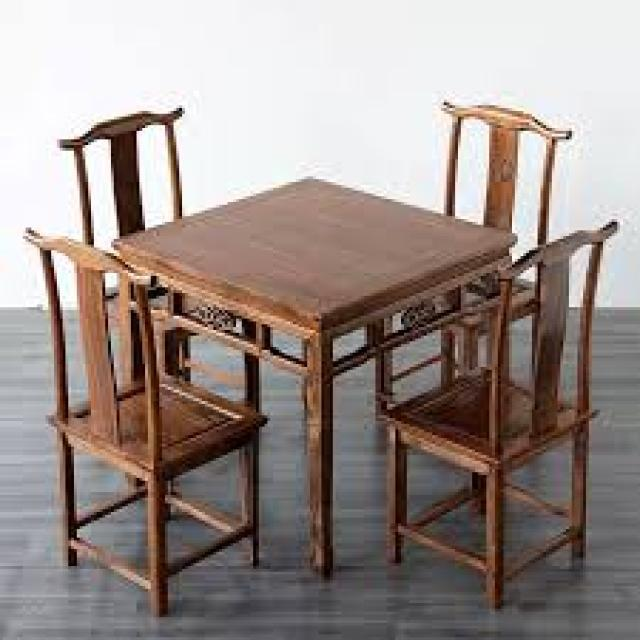table: (18, 92, 622, 608)
